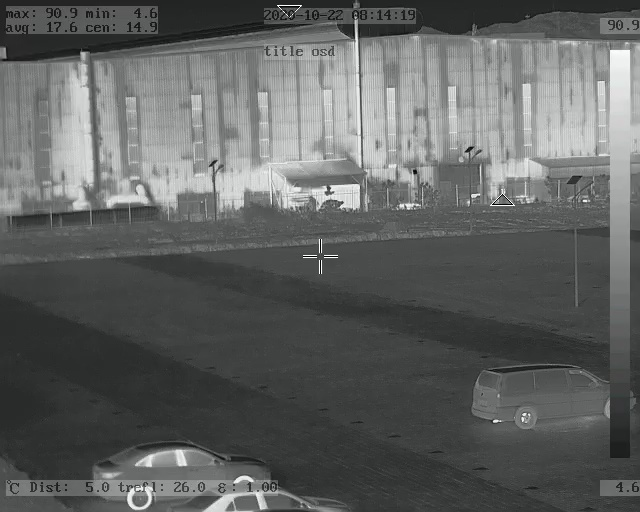vehicle: (94, 439, 271, 509), (468, 360, 629, 427), (179, 481, 341, 511)
